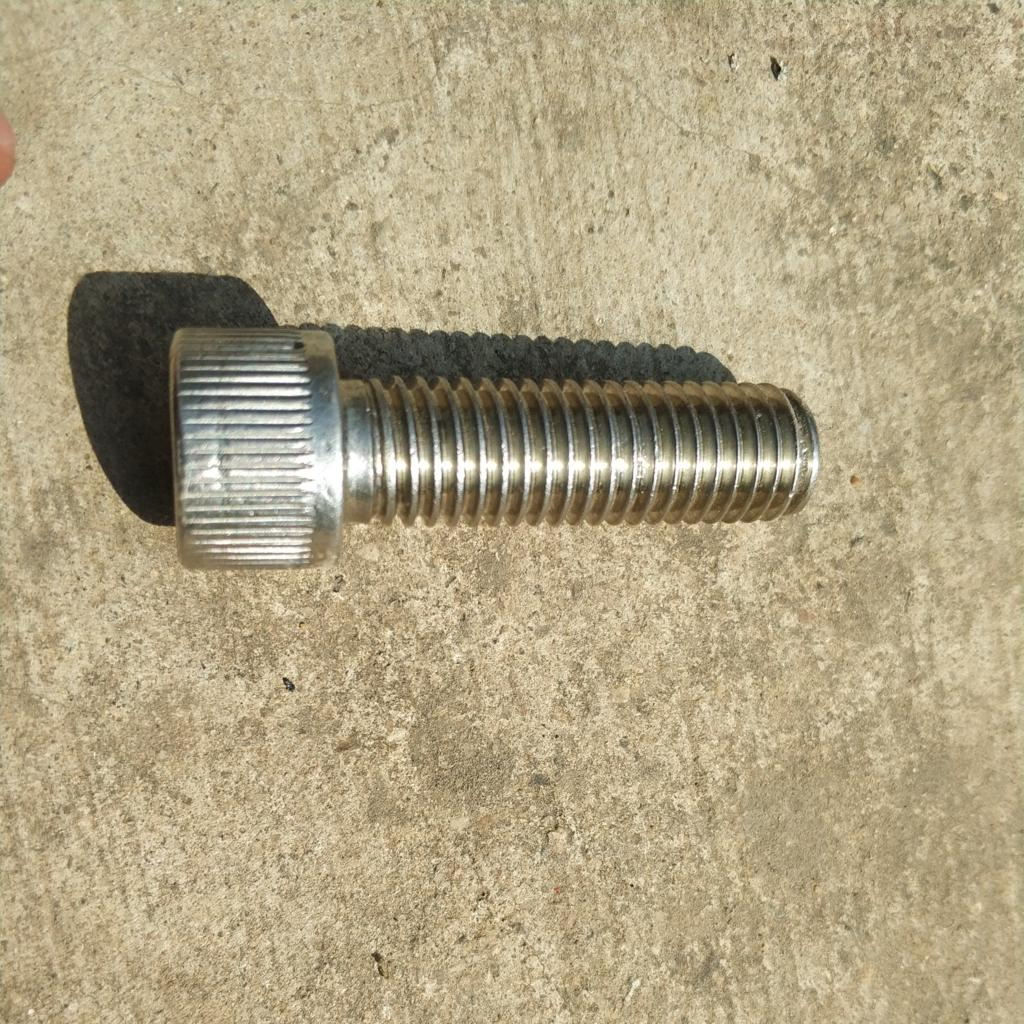screwtype1silver: (153, 316, 825, 578)
